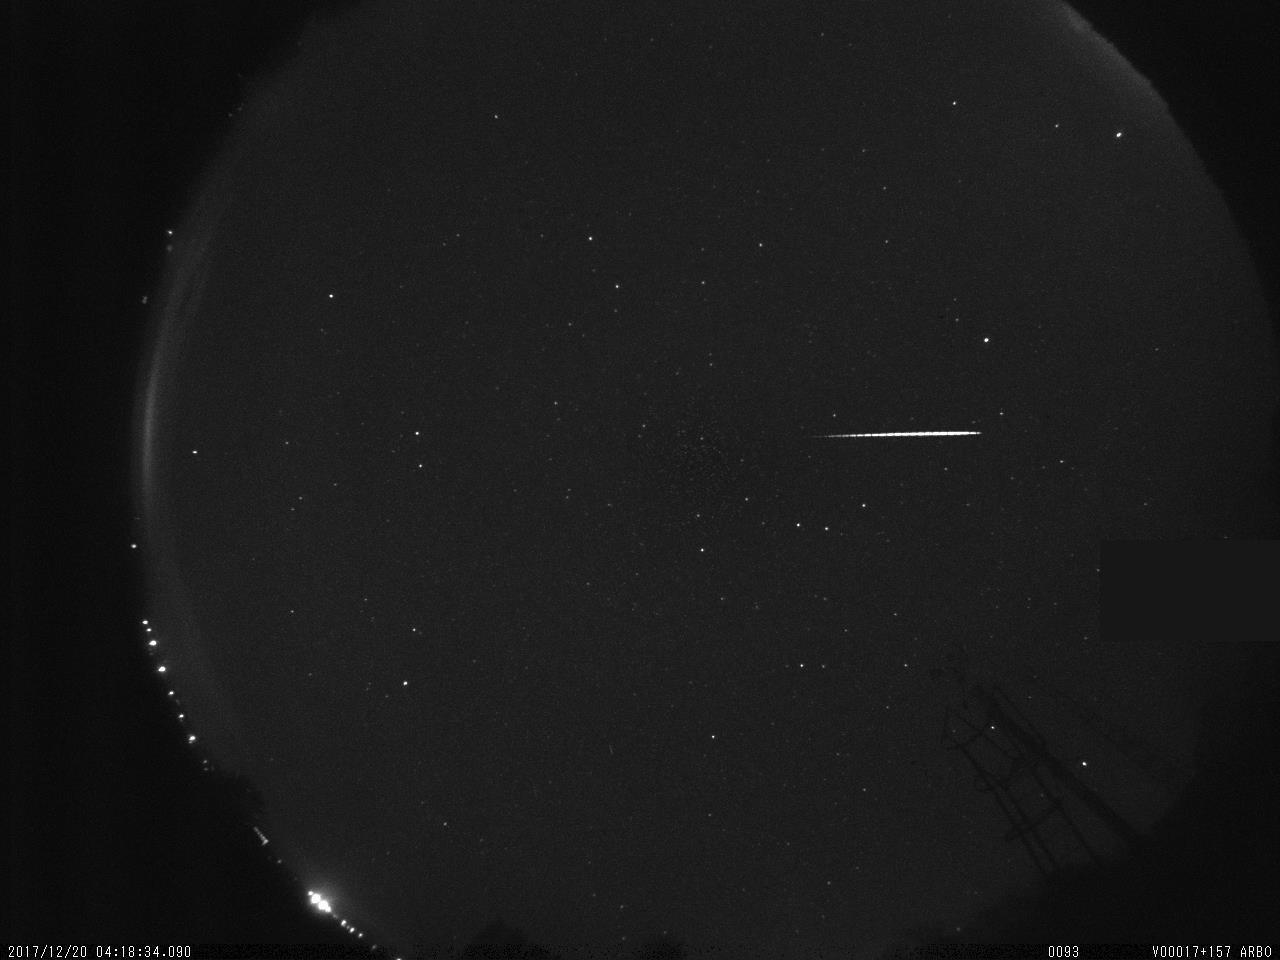meteor: (819, 407, 986, 462)
